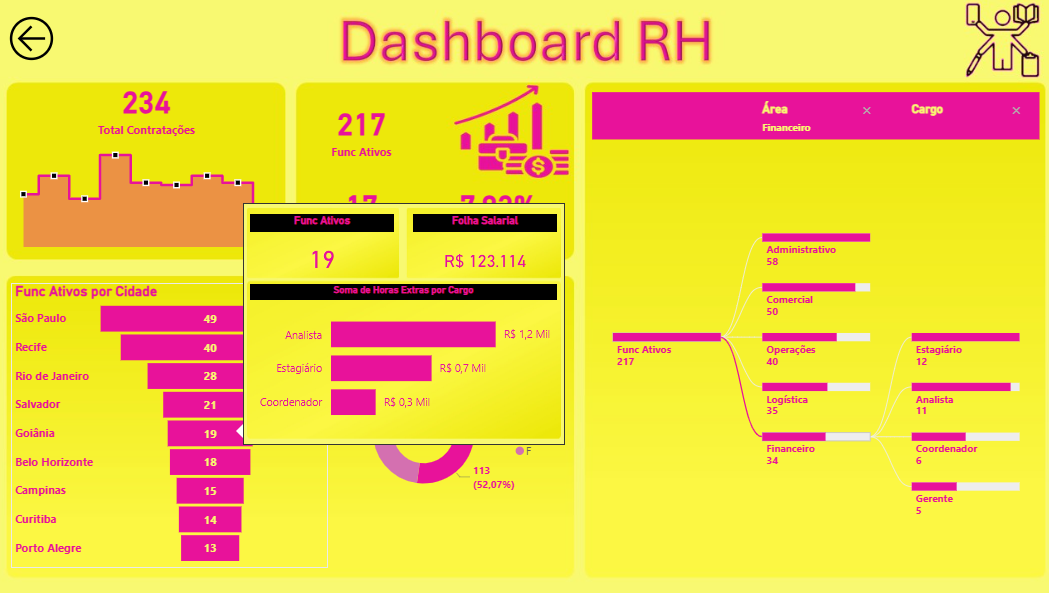

Layout of this report page (visuals, bound fields, positions):
{"tool":"powerbi","page":{"name":"Dashboard","canvas":[1280,720],"ordinal":0},"visuals":[{"type":"card","fields":{"Values":["medidas.total contratações"]},"box":[106.7,83.5,150.4,99],"z":0},{"type":"card","fields":{"Values":["medidas.func ativos"]},"box":[366.3,109.2,150.4,99],"z":1},{"type":"card","fields":{"Values":["medidas.func desligados"]},"box":[366.3,208.2,150.4,99],"z":2},{"type":"card","fields":{"Values":["medidas.turnover"]},"box":[530.8,208.2,150.4,99],"z":3},{"type":"areaChart","fields":{"Category":["Plan1.Data de Contratacao.Variation.Hierarquia de datas.Ano"],"Y":["medidas.Total Contratações"]},"box":[19.3,172.2,325.1,134.9],"z":4},{"type":"funnel","fields":{"Category":["Plan1.Cidade"],"Y":["medidas.Func Ativos"]},"box":[19.3,344.6,381.9,343.4],"z":5},{"type":"donutChart","fields":{"Category":["Plan1.Genero"],"Y":["medidas.Func Ativos"]},"box":[401.2,344.6,296.4,342.2],"z":6},{"type":"decompositionTreeVisual","fields":{"Analyze":["medidas.Func Ativos"],"ExplainBy":["Plan1.Área","Plan1.Cargo"]},"box":[714.5,109.6,549.4,578.3],"z":7}]}

Visuals, with their boxes in screenshot pixels (x1, y1, x2, y2), scaled from the page's 1280x720 canvas onto the 1049x593 screenshot:
card - medidas.total contratações: detection(87, 69, 211, 150)
card - medidas.func ativos: detection(300, 90, 423, 171)
card - medidas.func desligados: detection(300, 171, 423, 253)
card - medidas.turnover: detection(435, 171, 558, 253)
areaChart - Plan1.Data de Contratacao.Variation.Hierarquia de datas.Ano x medidas.Total Contratações: detection(16, 142, 282, 253)
funnel - Plan1.Cidade x medidas.Func Ativos: detection(16, 284, 329, 567)
donutChart - Plan1.Genero x medidas.Func Ativos: detection(329, 284, 572, 566)
decompositionTreeVisual - medidas.Func Ativos x Plan1.Área: detection(586, 90, 1036, 567)
